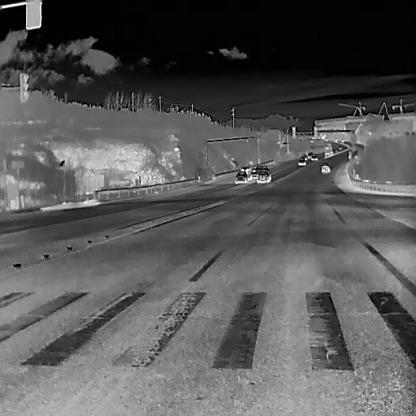car: (256, 167, 270, 182), (239, 166, 254, 180), (234, 170, 248, 184), (323, 142, 332, 156), (321, 162, 331, 174), (250, 167, 258, 179), (297, 157, 306, 166), (255, 164, 263, 174), (310, 153, 318, 161), (300, 153, 308, 161), (307, 151, 313, 159), (353, 150, 358, 158), (338, 145, 343, 150), (333, 138, 337, 143), (340, 138, 344, 143), (334, 148, 338, 153), (323, 137, 327, 142)
